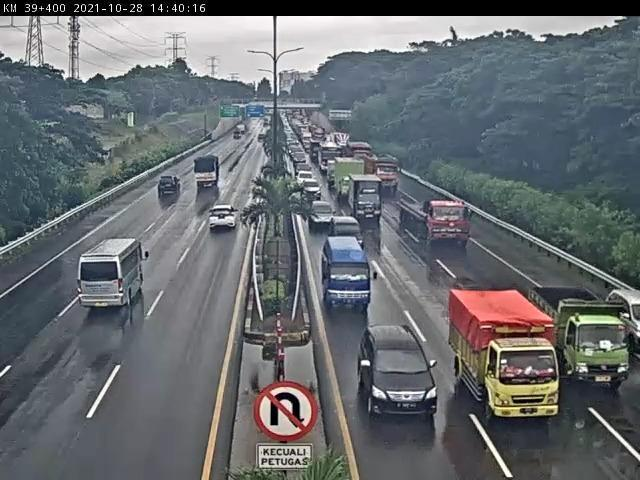bus: (78, 240, 149, 311), (321, 239, 377, 312)
car: (357, 327, 442, 416), (311, 201, 339, 234), (207, 204, 240, 231), (331, 218, 363, 245), (159, 177, 184, 199), (303, 181, 324, 202)
truck: (448, 289, 559, 419), (531, 285, 632, 391), (398, 196, 473, 246), (351, 176, 384, 223), (193, 154, 222, 188)
